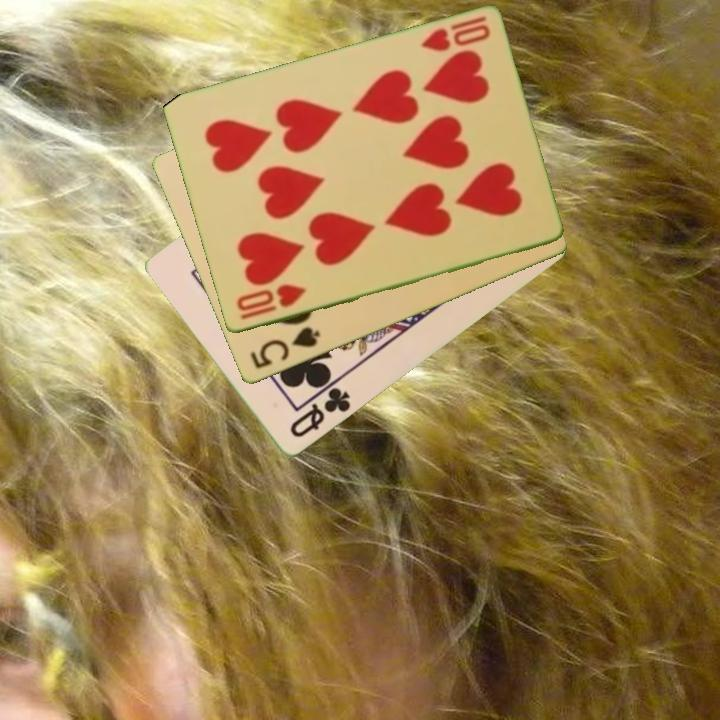10h: (232, 281, 309, 323), (416, 13, 493, 55)
5s: (246, 323, 323, 372)
Qc: (286, 384, 354, 441)
